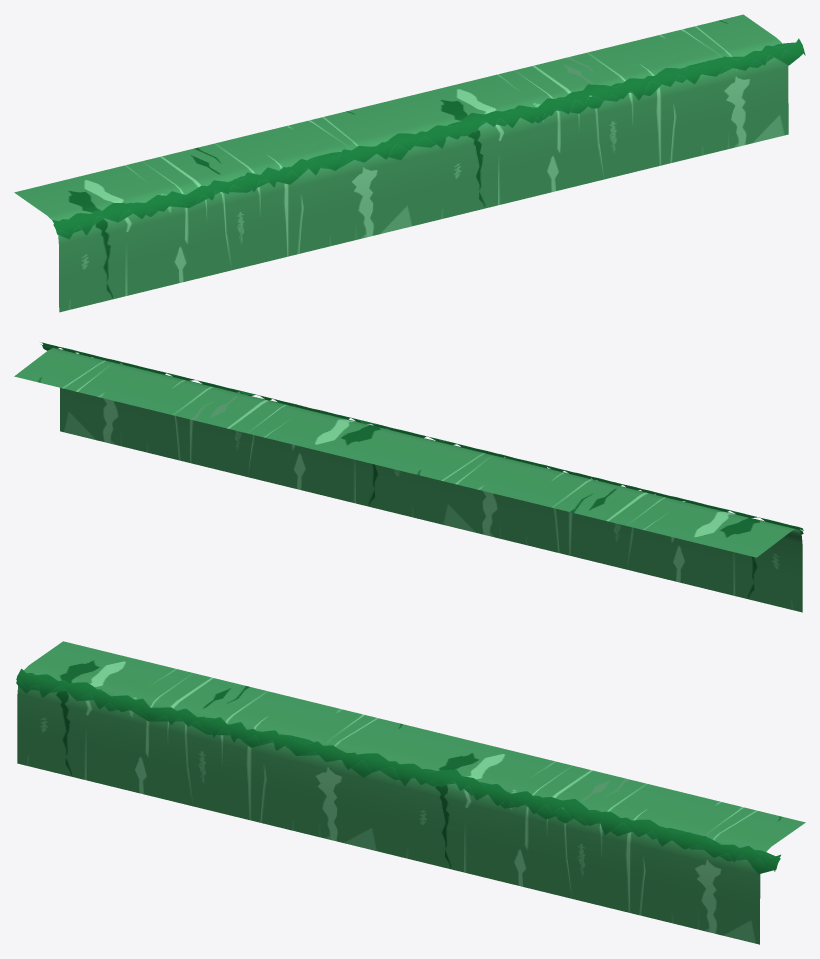
The model's file is casc22.fbx.
3 views of the same model, one above another, from view 1: azimuth 30°, elevation 25°; view 2: azimuth 150°, elevation 25°; view 3: azimuth 330°, elevation 25° (orthographic).
Visible parts, largest first — view 1: Box033, BordeCascada003, BordeCascada2; view 2: Box033, BordeCascada003, BordeCascada2; view 3: Box033, BordeCascada003, BordeCascada2.
Boxes of the visible parts, x1,y1,x2,y2 form: Box033: (14,14,788,312); BordeCascada003: (52,38,805,235); BordeCascada2: (53,42,802,239); Box033: (14,348,802,612); BordeCascada003: (40,342,803,530); BordeCascada2: (41,344,803,534); Box033: (17,641,805,944); BordeCascada003: (16,668,780,871); BordeCascada2: (16,673,780,874).
Bounding box in the file's own units: 2390 × 275 × 259.
